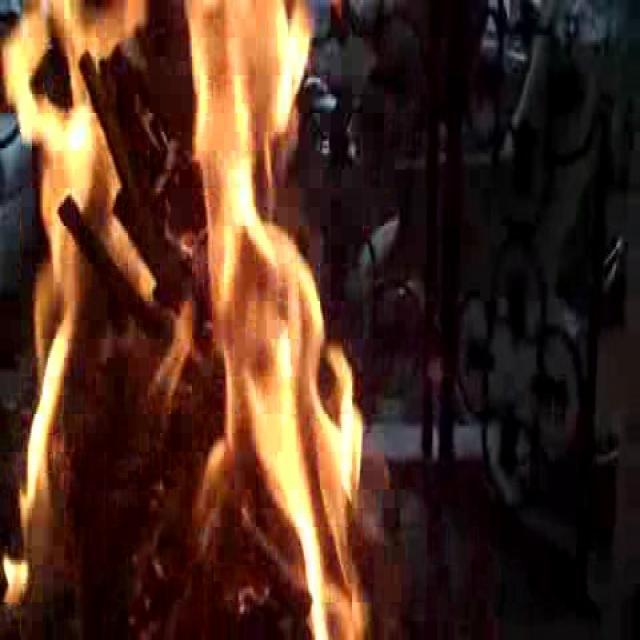Fire: (188, 5, 378, 618), (5, 8, 136, 500)
